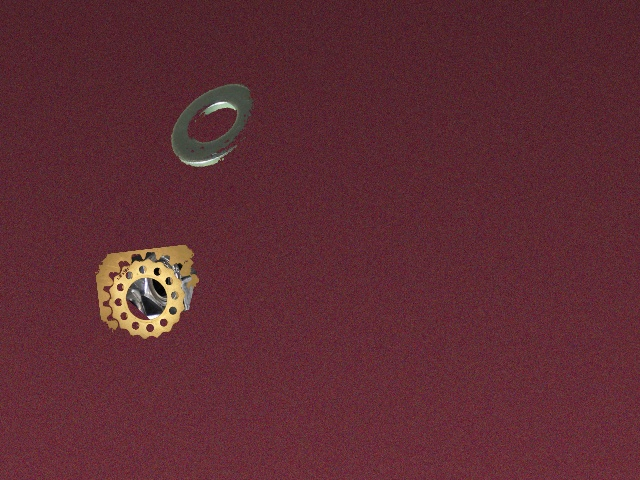gear: (95, 244, 199, 338)
nut: (123, 246, 196, 321)
washer: (171, 83, 253, 166)
